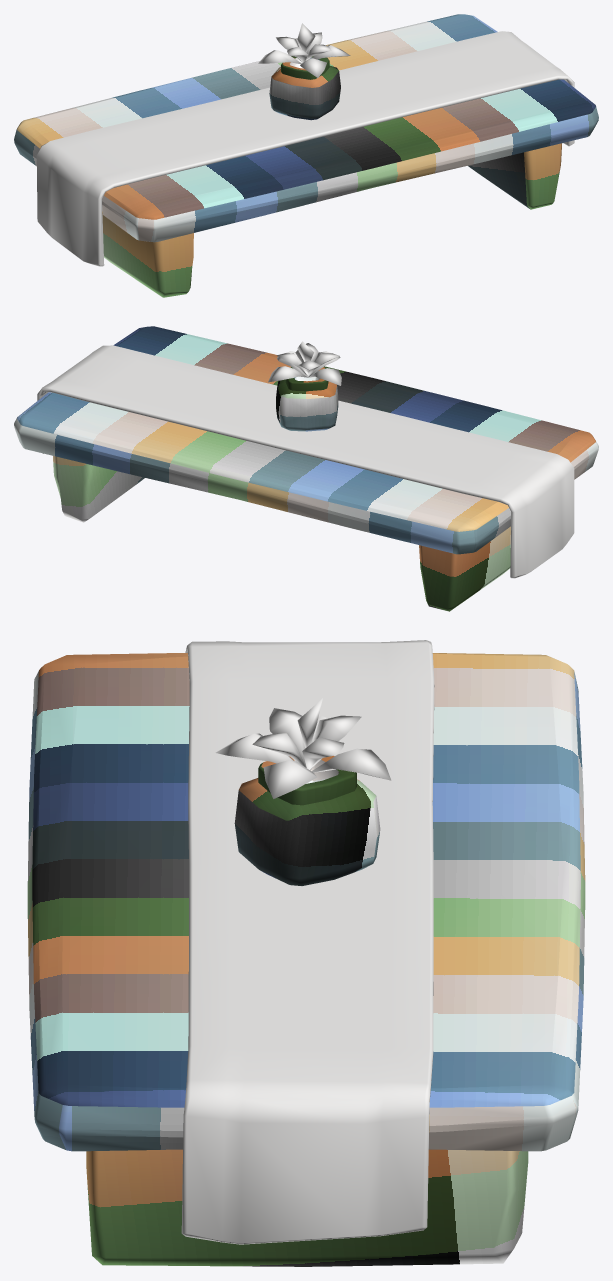
The model's file is P_StoneDiningTableLong.glb.
The picture shows the model from 3 angles, top to bottom: view 1: azimuth 30°, elevation 25°; view 2: azimuth 150°, elevation 25°; view 3: azimuth 270°, elevation 25°; orthographic projection. The views are drawn at different scales.
Visible parts, largest first — view 1: P_StoneDiningTableLong; view 2: P_StoneDiningTableLong; view 3: P_StoneDiningTableLong.
Part boxes in pixels (left/top/right/bottom): P_StoneDiningTableLong: left=14, top=14, right=598, bottom=297; P_StoneDiningTableLong: left=14, top=326, right=598, bottom=611; P_StoneDiningTableLong: left=27, top=640, right=585, bottom=1266.
Bounding box in the file's own units: 3.06 × 1.15 × 1.54.
1 material, 1 textured.
